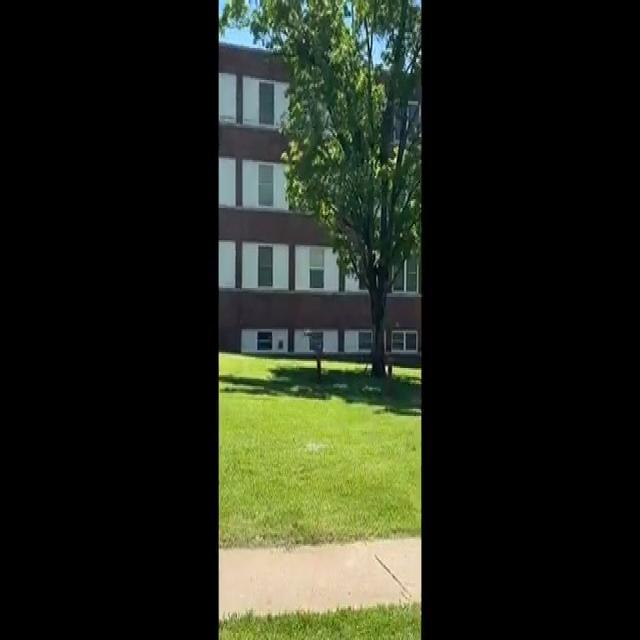drone: (298, 320, 320, 340)
